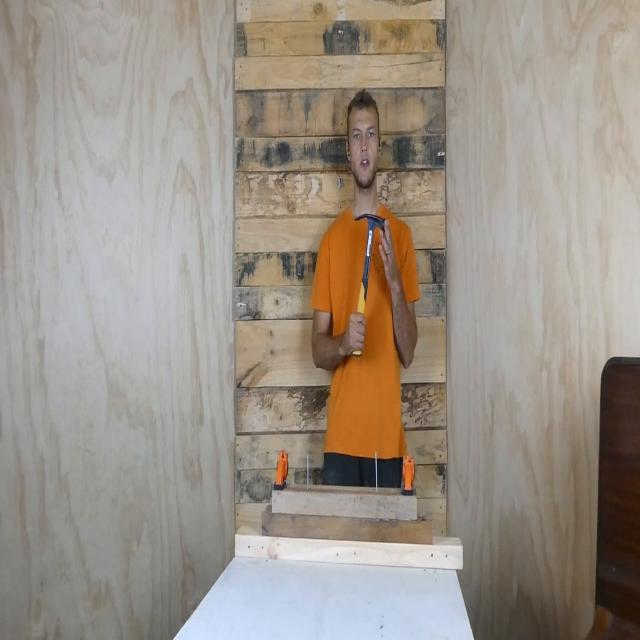hammer: (353, 214, 386, 356)
